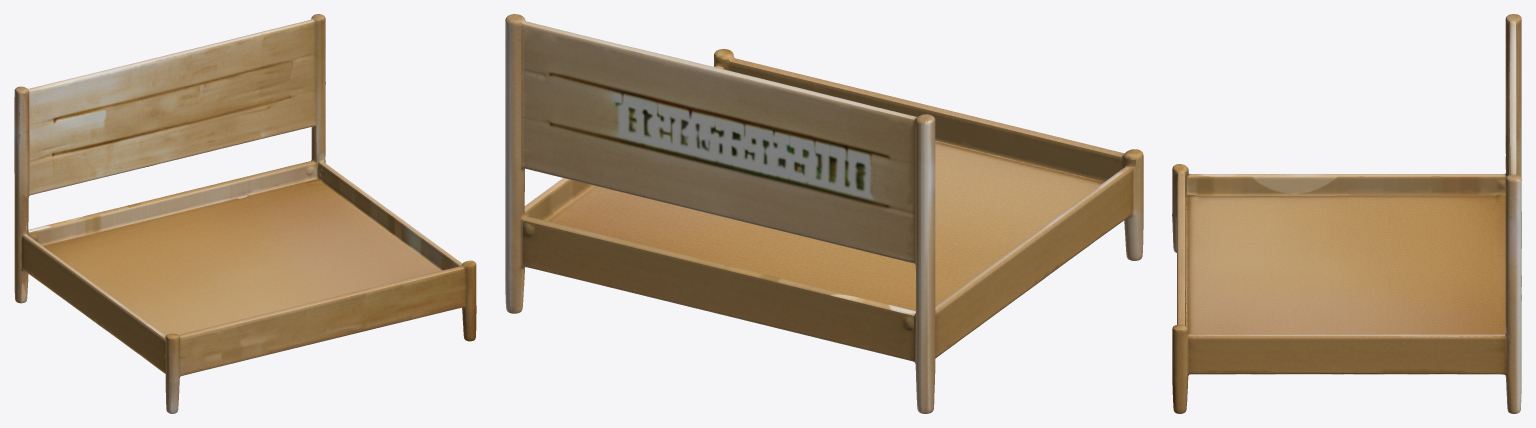
The model's file is bed__bed#3.glb.
3 renders of one model, left to right at view 1: azimuth 30°, elevation 25°; view 2: azimuth 150°, elevation 25°; view 3: azimuth 270°, elevation 25°, orthographic. The views are drawn at different scales.
Parts seen in each view (by area): view 1: tmptm8b2nur.ply; view 2: tmptm8b2nur.ply; view 3: tmptm8b2nur.ply.
Boxes of the visible parts, x1=… form: tmptm8b2nur.ply: x1=14, y1=14, x2=476, y2=413; tmptm8b2nur.ply: x1=505, y1=14, x2=1143, y2=413; tmptm8b2nur.ply: x1=1172, y1=14, x2=1521, y2=413.
Size of the model in its own units: 1.99 by 1.31 by 1.77.
Materials: 1 (1 with a texture image).
